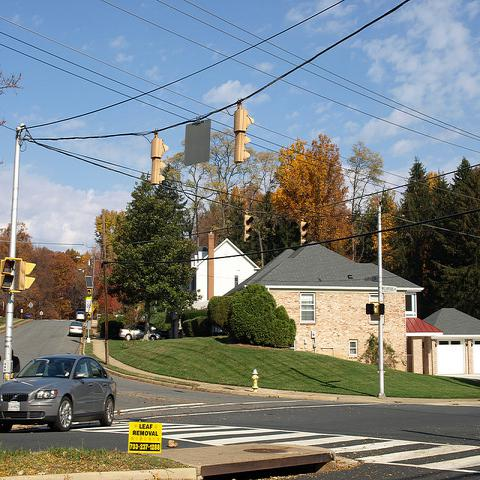car: (0, 354, 116, 434), (121, 324, 145, 338), (69, 322, 83, 337), (76, 311, 85, 321)
